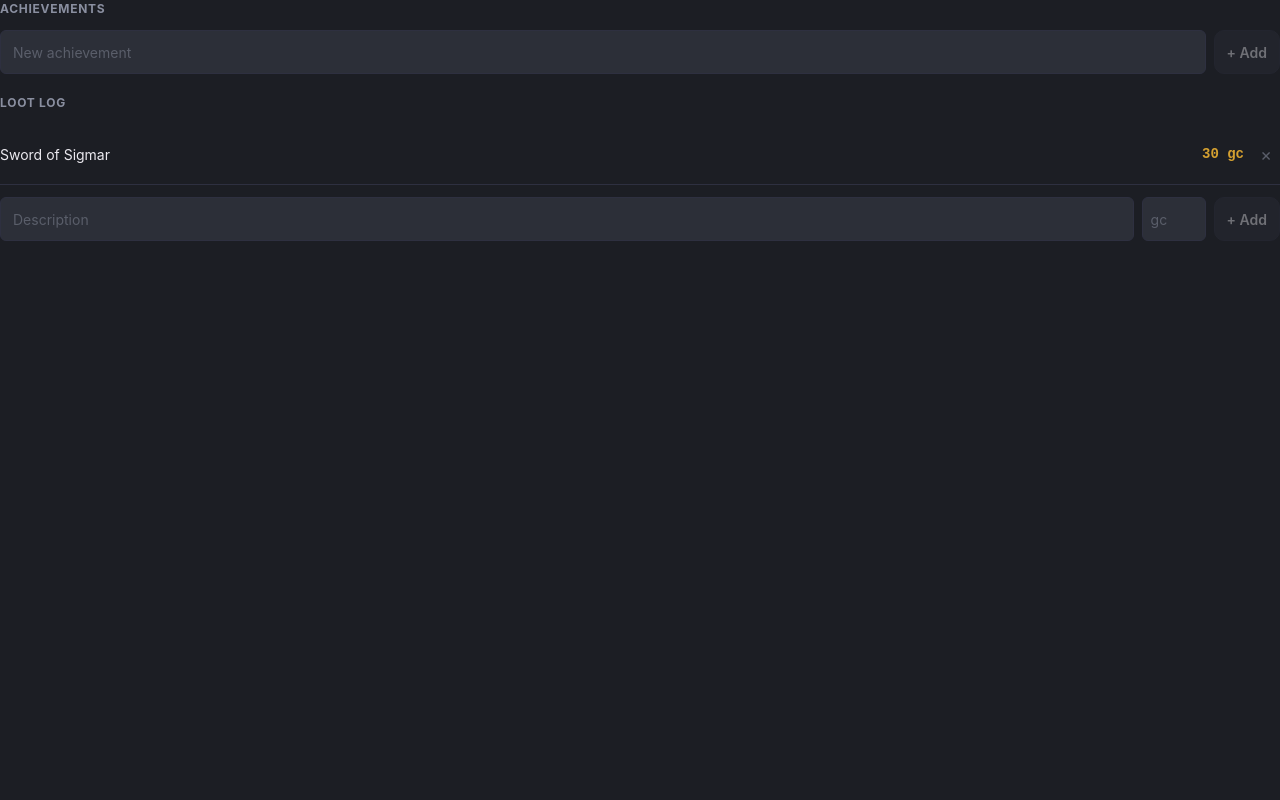
PostGameRecordsPanel › cancelling delete loot keeps the list unchanged
The width and height of the screenshot is (1280, 800).
Click the button named "delete loot entry: sword of sigmar" at (1266, 154), box [1252, 132, 1279, 176]
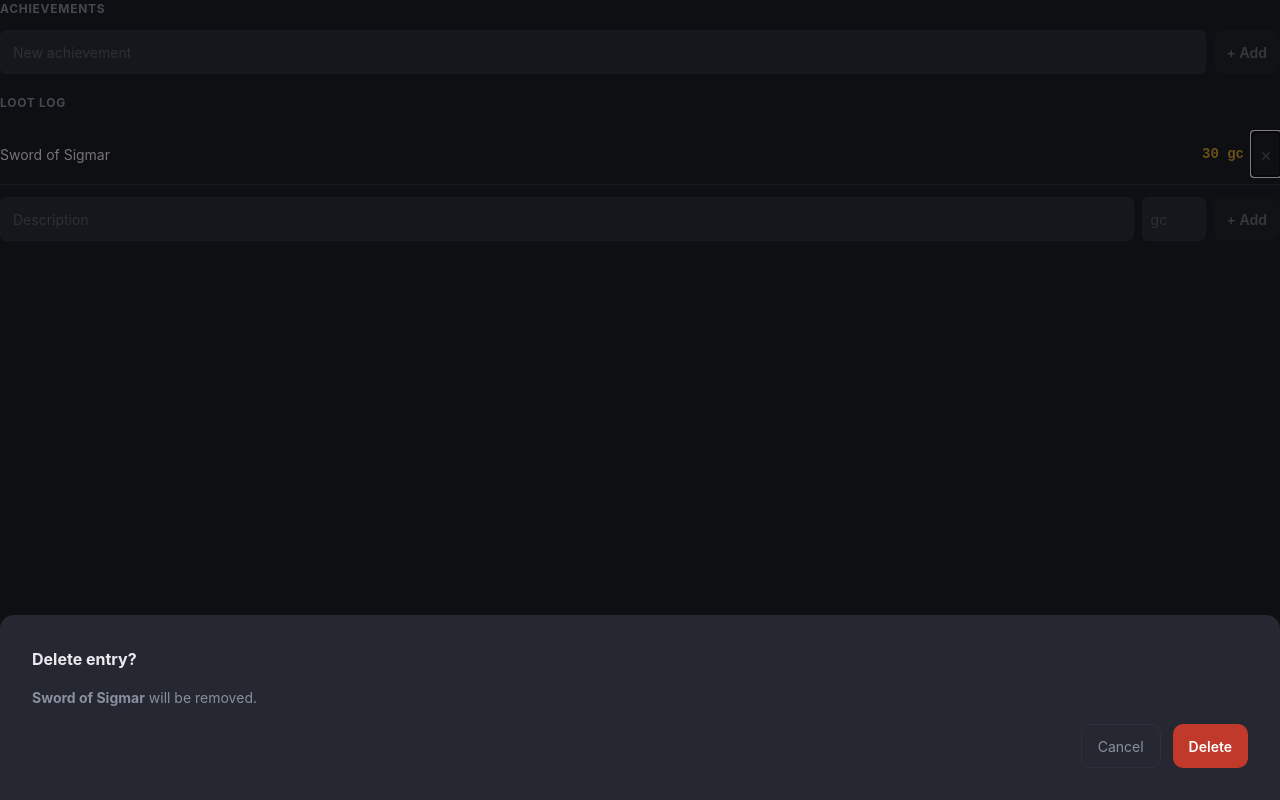
Click the button "Cancel" at (1121, 746), box [1081, 724, 1161, 768]
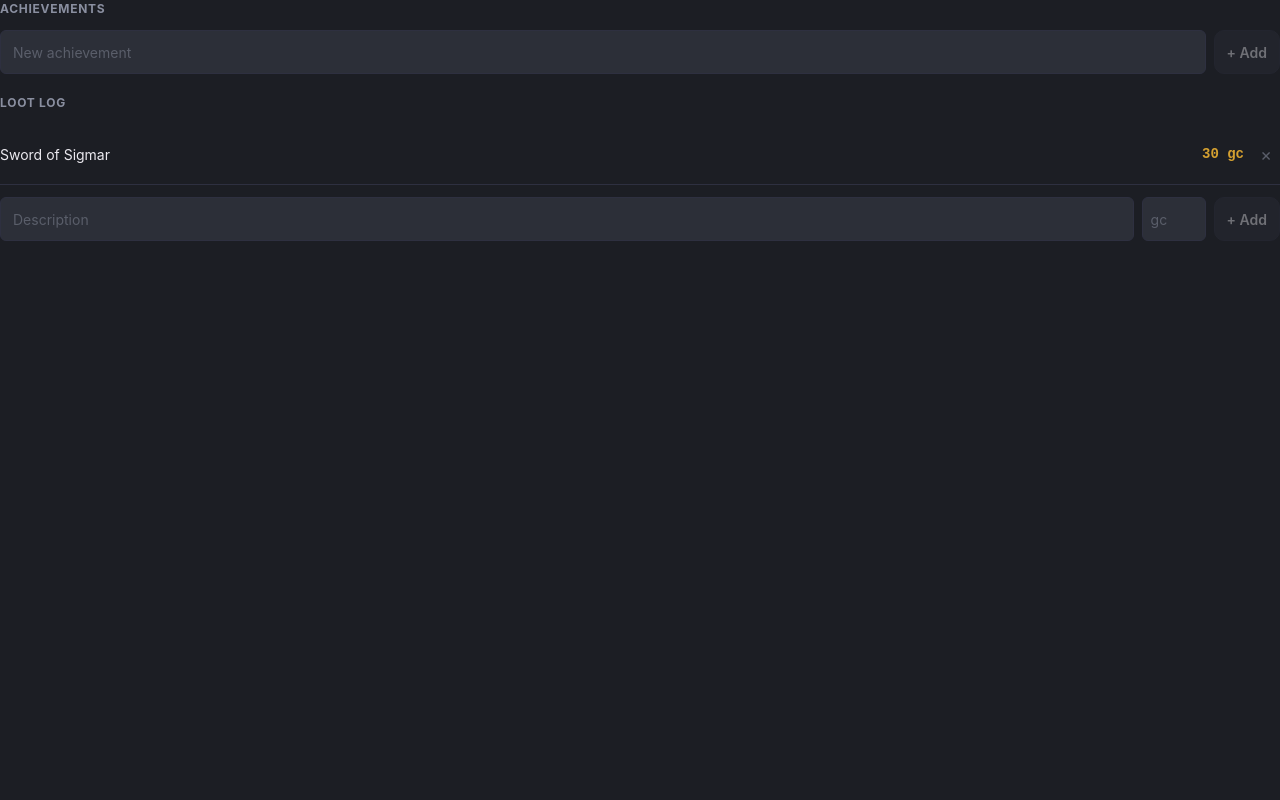
expect the dialog is gone: met
